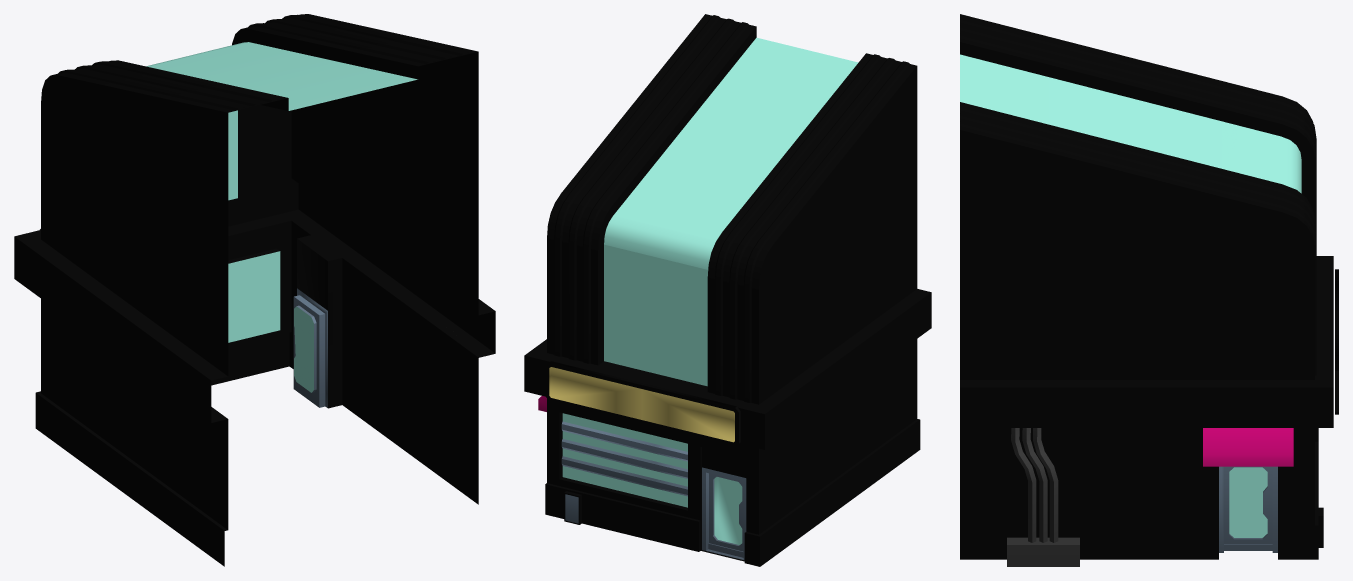
File: Comercio_Edificio_01.FBX
3 renders of one model, left to right at view 1: azimuth 30°, elevation 25°; view 2: azimuth 150°, elevation 25°; view 3: azimuth 270°, elevation 25°, orthographic. The views are drawn at different scales.
Parts seen in each view (by area): view 1: Comercio_Edificio_01; view 2: Comercio_Edificio_01; view 3: Comercio_Edificio_01.
Part boxes in pixels (x1,y1,x2,y2): Comercio_Edificio_01: (14, 14, 495, 566); Comercio_Edificio_01: (524, 14, 931, 566); Comercio_Edificio_01: (960, 14, 1338, 566).
Size of the model in its own units: 963 by 1153 by 1448.
